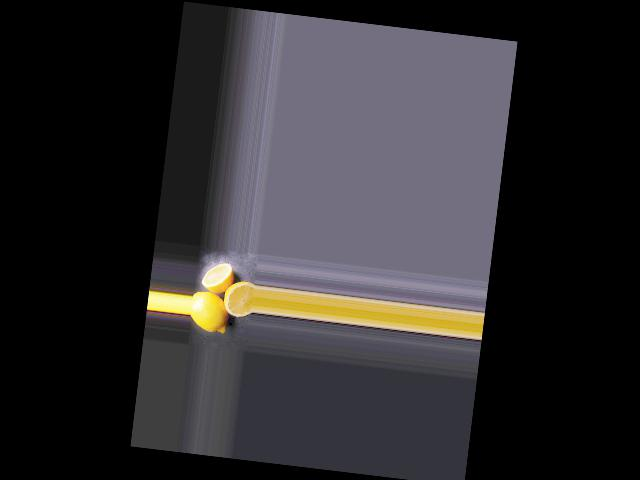lemon: (189, 287, 229, 336)
